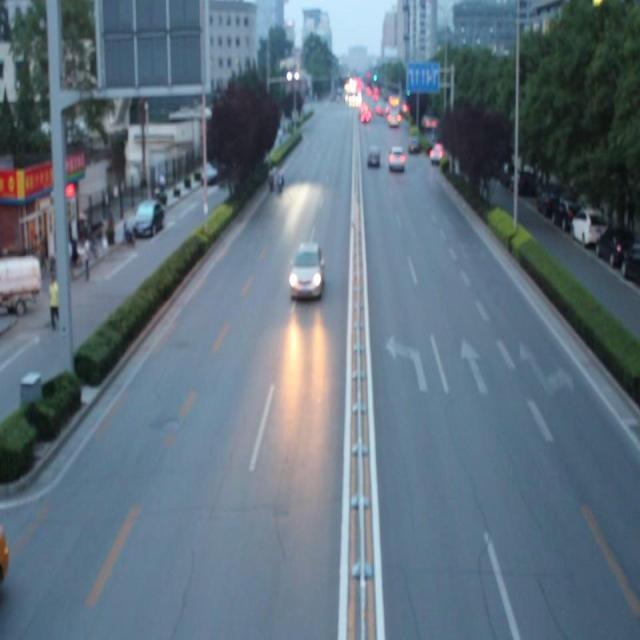car: (289, 243, 324, 296)
